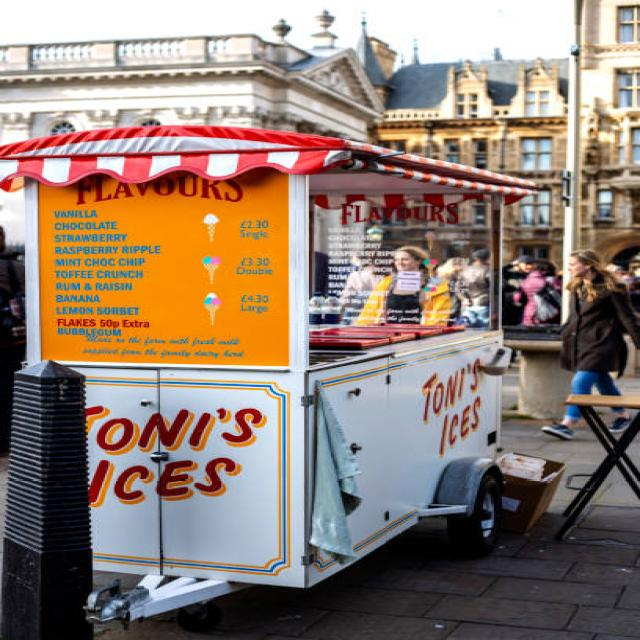Emperan: (0, 115, 570, 639)
